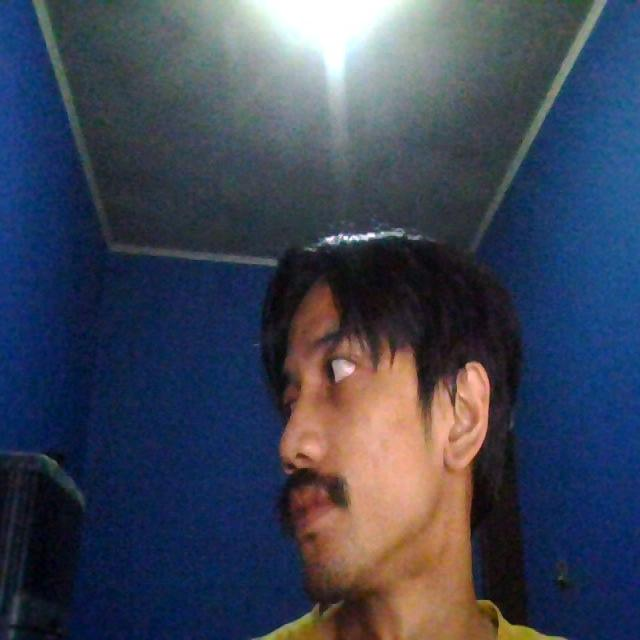Melihat kekanan: (223, 215, 548, 602)
